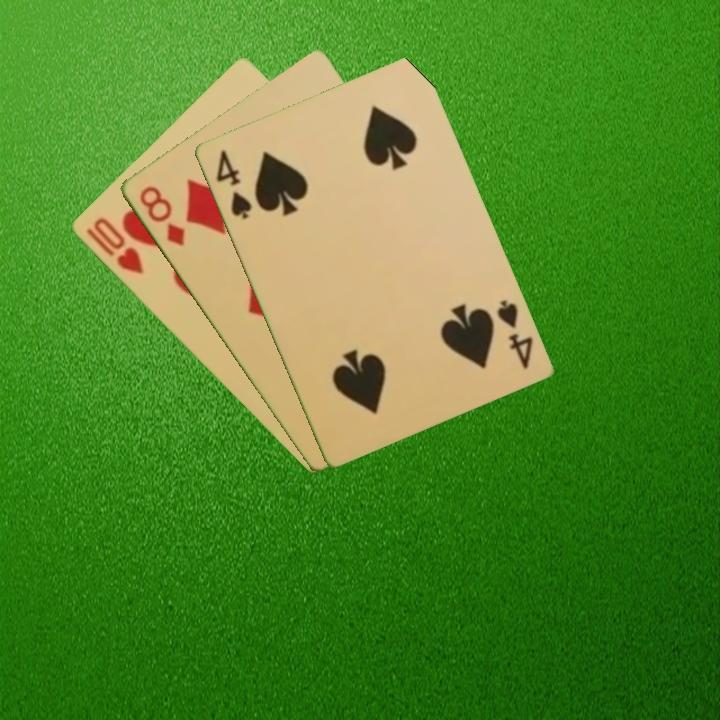10h: (81, 214, 146, 277)
4s: (492, 295, 536, 372), (212, 146, 255, 222)
8d: (135, 182, 188, 250)
